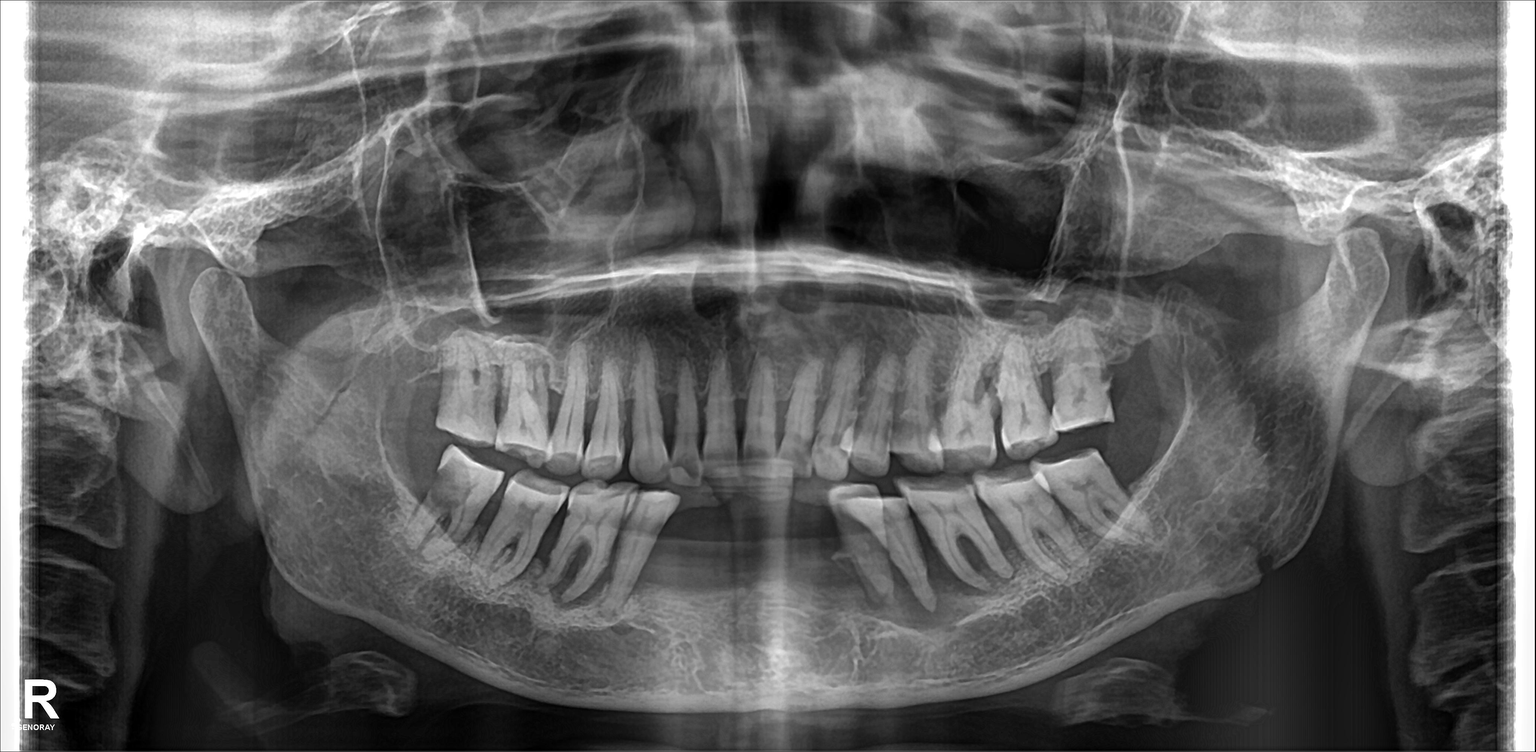Dental Caries: (432, 458, 471, 514)
Missing Tooth: (723, 501, 766, 617), (775, 495, 813, 626), (670, 495, 715, 602), (374, 445, 425, 524), (400, 350, 441, 435), (1110, 315, 1147, 407), (1125, 441, 1158, 509)
